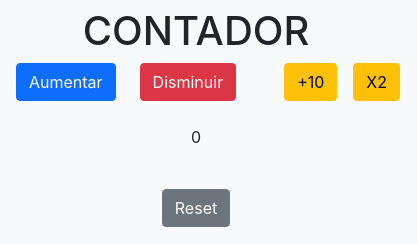
it: buttons function › when press aumentar, the counter must add 1
The image size is (417, 244).
Click the button with test id "aumentar": (66, 82) [16,63,116,101]
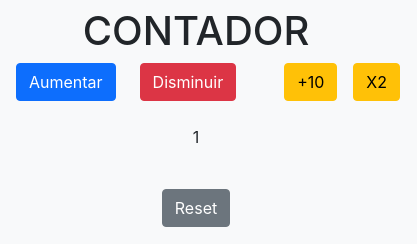
Result: the text with test id "contador" reads "1" at [193,127,199,147]
